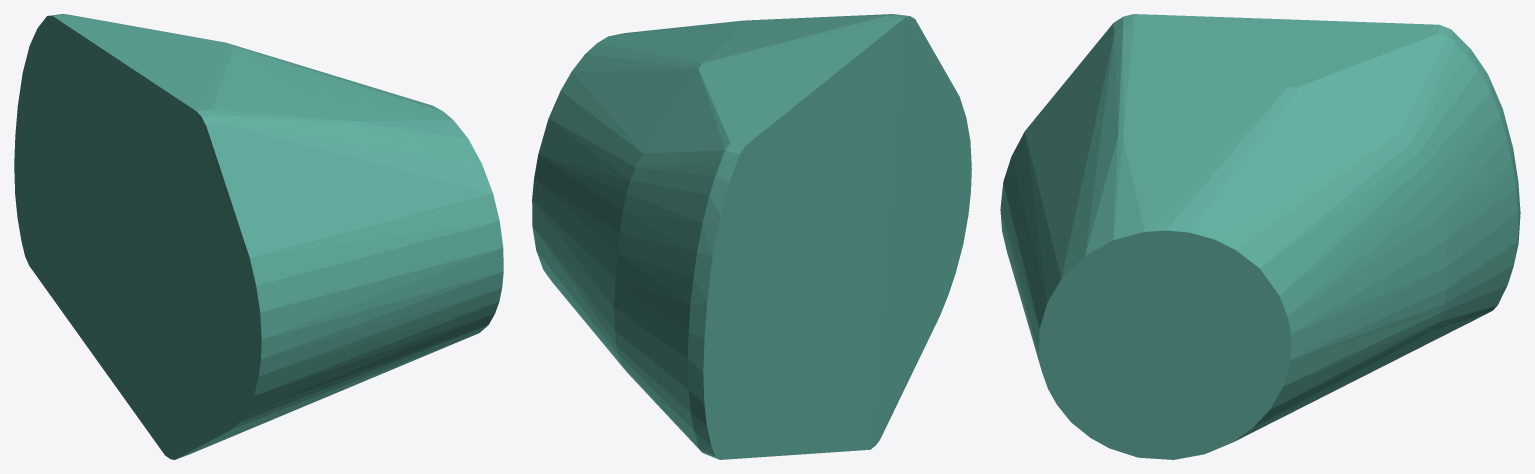
File: robot_base_coll_1.dae
3 views of the same model, side by side, from view 1: azimuth 30°, elevation 25°; view 2: azimuth 150°, elevation 25°; view 3: azimuth 270°, elevation 25° (orthographic). The views are drawn at different scales.
Parts seen in each view (by area): view 1: Node_0x7f9e89b7d640; view 2: Node_0x7f9e89b7d640; view 3: Node_0x7f9e89b7d640.
Part boxes in pixels (x1=…): Node_0x7f9e89b7d640: x1=14, y1=14, x2=503, y2=459; Node_0x7f9e89b7d640: x1=532, y1=14, x2=971, y2=459; Node_0x7f9e89b7d640: x1=1000, y1=14, x2=1520, y2=459.
Bounding box in the file's own units: 0.14 × 0.1871 × 0.2262.
